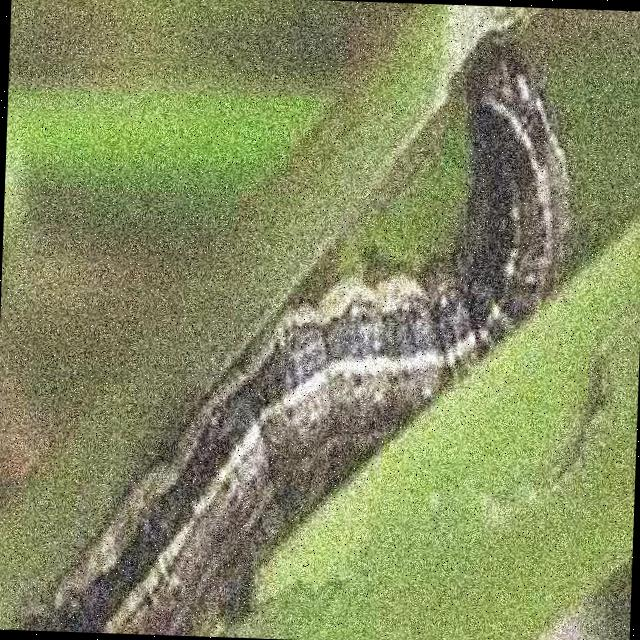worm: (19, 17, 592, 640)
